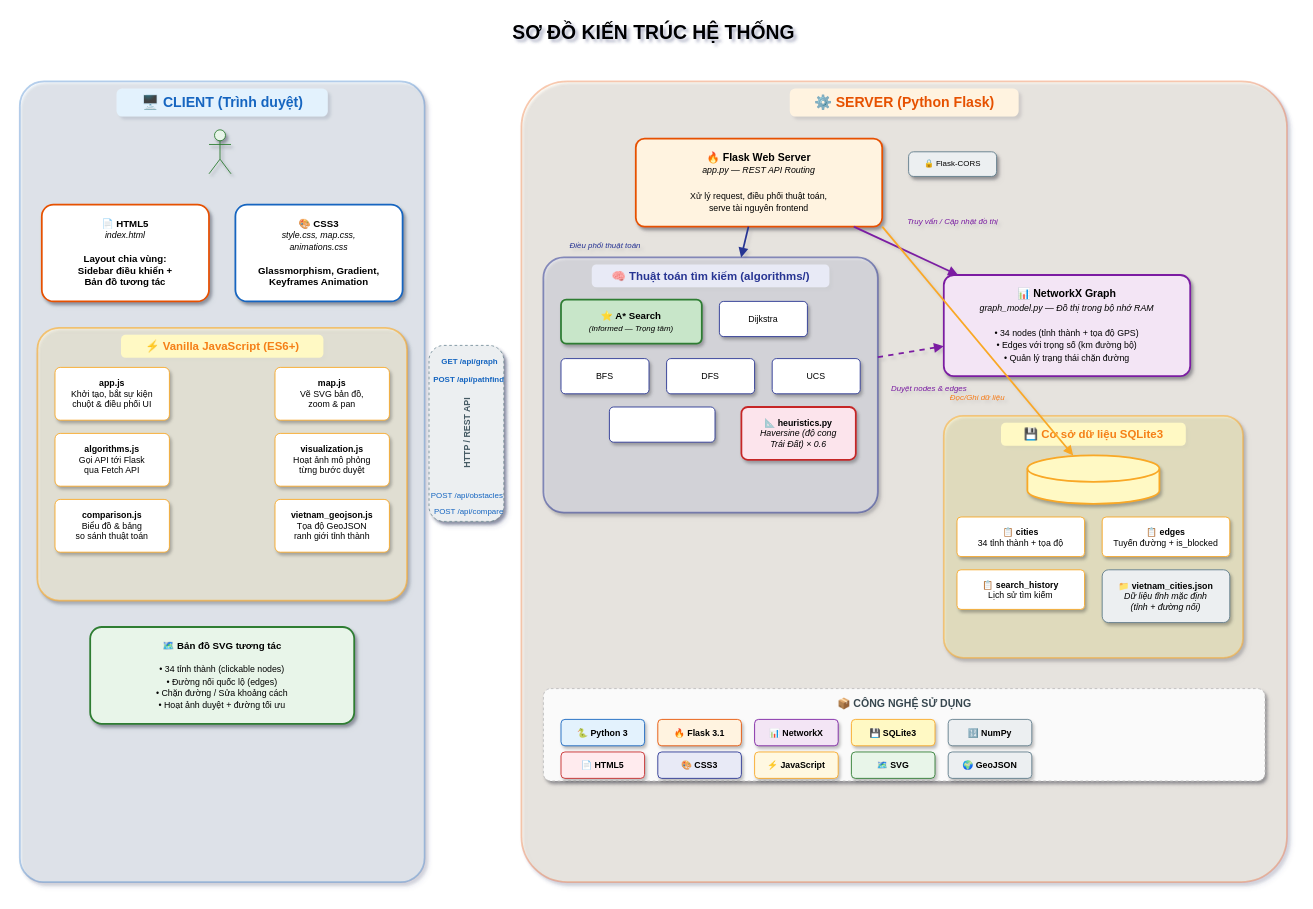
This 1313x909 diagram has some shape labels left out. Here are the shapes that lost their labels. From the top down, the centre of each, then its label:
At pixel 220 152: "Người dùng".
At pixel 662 425: "Greedy Best-First".
At pixel 1094 480: "vietnam_graph.db".
